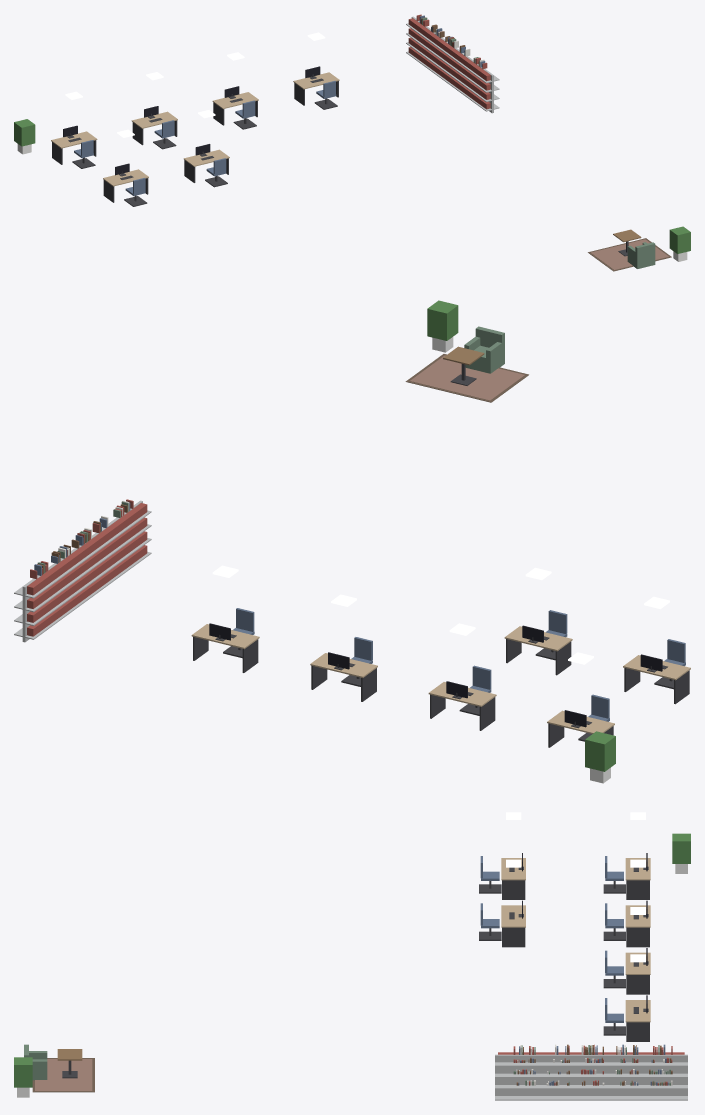
Rendered from fine-s5.glb.
3 views of the same model, one above another, from view 1: azimuth 30°, elevation 25°; view 2: azimuth 150°, elevation 25°; view 3: azimuth 270°, elevation 25° (orthographic). The views are drawn at different scales.
Parts seen in each view (by area): view 1: soft-s5, shelving.034, shelving.030, office-desk-real.025, office-desk-real.028, office-desk-real.029, office-desk-real.026, office-desk-real.024, office-desk-real.027, shelving.033, shelving.032, shelving.031 (+9 smaller); view 2: soft-s5, shelving.030, shelving.031, shelving.033, shelving.034, office-desk-real.025, office-desk-real.027, office-desk-real.028, office-desk-real.026, office-desk-real.029, plant-medium.008, sofa.004 (+3 smaller); view 3: soft-s5, shelving.030, shelving.034, shelving.031, shelving.033, shelving.032, office-desk-real.027, office-desk-real.029, office-desk-real.026, office-desk-real.025, office-desk-real.024, office-desk-real.028 (+10 smaller).
Boxes of the visible parts, x1,y1,x2,y2 form: soft-s5: [416, 14, 671, 271]; shelving.034: [463, 59, 499, 113]; shelving.030: [406, 16, 435, 69]; office-desk-real.025: [131, 106, 177, 145]; office-desk-real.028: [103, 163, 148, 202]; office-desk-real.029: [183, 144, 229, 182]; office-desk-real.026: [212, 86, 258, 125]; office-desk-real.024: [51, 125, 97, 164]; office-desk-real.027: [293, 66, 339, 105]; shelving.033: [448, 49, 478, 100]; shelving.032: [434, 38, 464, 89]; shelving.031: [420, 28, 447, 79]; soft-s5: [30, 354, 528, 579]; shelving.030: [14, 563, 67, 642]; shelving.031: [48, 547, 88, 623]; shelving.033: [90, 517, 126, 593]; shelving.034: [109, 500, 151, 578]; office-desk-real.025: [428, 681, 496, 730]; office-desk-real.027: [191, 623, 259, 672]; office-desk-real.028: [623, 654, 690, 704]; office-desk-real.026: [310, 652, 377, 701]; office-desk-real.029: [504, 625, 572, 675]; plant-medium.008: [427, 300, 458, 352]; sofa.004: [464, 326, 504, 373]; soft-s5: [32, 1044, 672, 1092]; shelving.030: [632, 1052, 687, 1100]; shelving.034: [495, 1052, 550, 1100]; shelving.031: [597, 1052, 653, 1100]; shelving.033: [529, 1052, 585, 1100]; shelving.032: [563, 1052, 619, 1100]; office-desk-real.027: [625, 995, 650, 1041]; office-desk-real.029: [501, 900, 525, 947]; office-desk-real.026: [625, 948, 650, 994]; office-desk-real.025: [625, 900, 650, 947]; office-desk-real.024: [625, 853, 650, 899]; office-desk-real.028: [501, 853, 525, 899].
Size of the model in its own units: 18.01 by 2.64 by 21.76.
